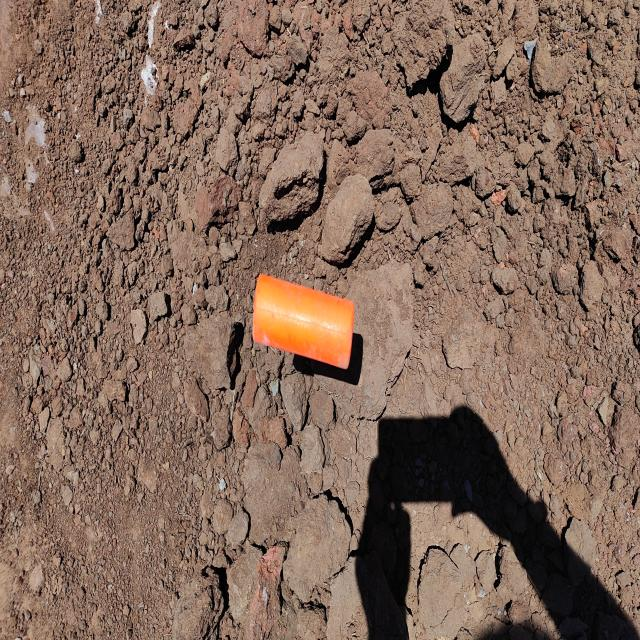Orange_hammer: (252, 272, 354, 371)
